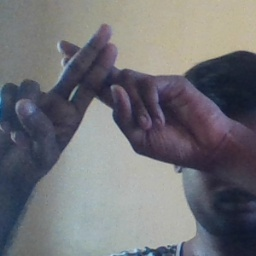F: (33, 18, 153, 147)
